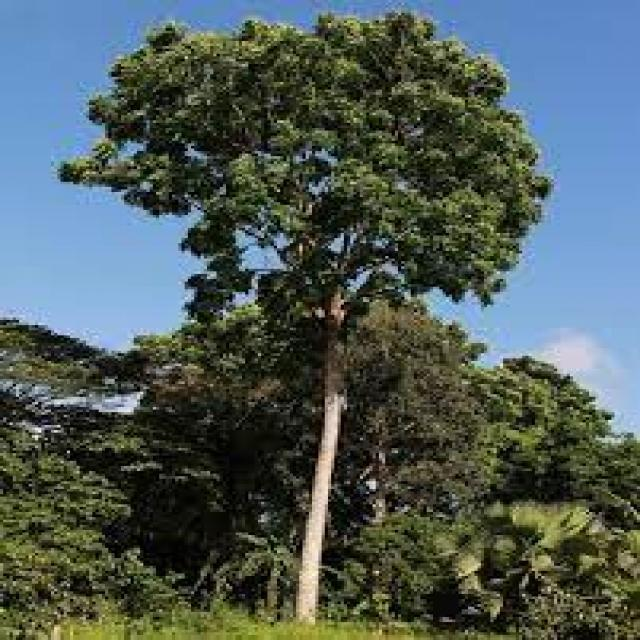tree: (60, 8, 551, 630), (128, 282, 490, 627)
